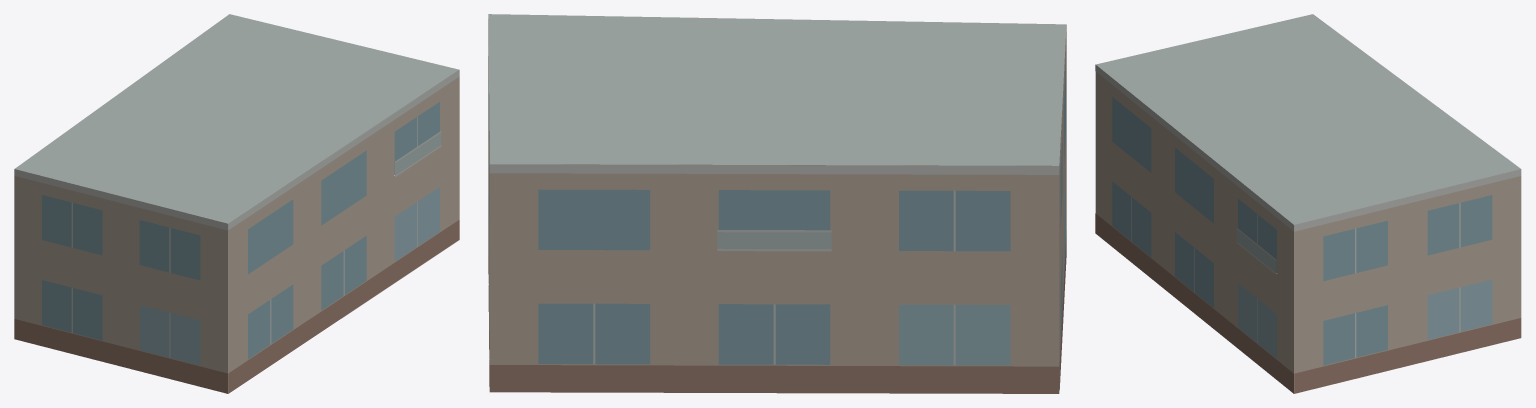
File: survey-upis-33015471.glb
The picture shows the model from 3 angles, left to right: view 1: azimuth 30°, elevation 25°; view 2: azimuth 150°, elevation 25°; view 3: azimuth 270°, elevation 25°; orthographic projection. The views are drawn at different scales.
Parts seen in each view (by area): view 1: survey-upis-33015471.tmp; view 2: survey-upis-33015471.tmp; view 3: survey-upis-33015471.tmp.
Boxes of the visible parts, x1,y1,x2,y2 form: survey-upis-33015471.tmp: [14, 14, 459, 393]; survey-upis-33015471.tmp: [488, 14, 1066, 393]; survey-upis-33015471.tmp: [1095, 14, 1521, 393].
Bounding box in the file's own units: 16.35 × 6.1 × 13.95.
